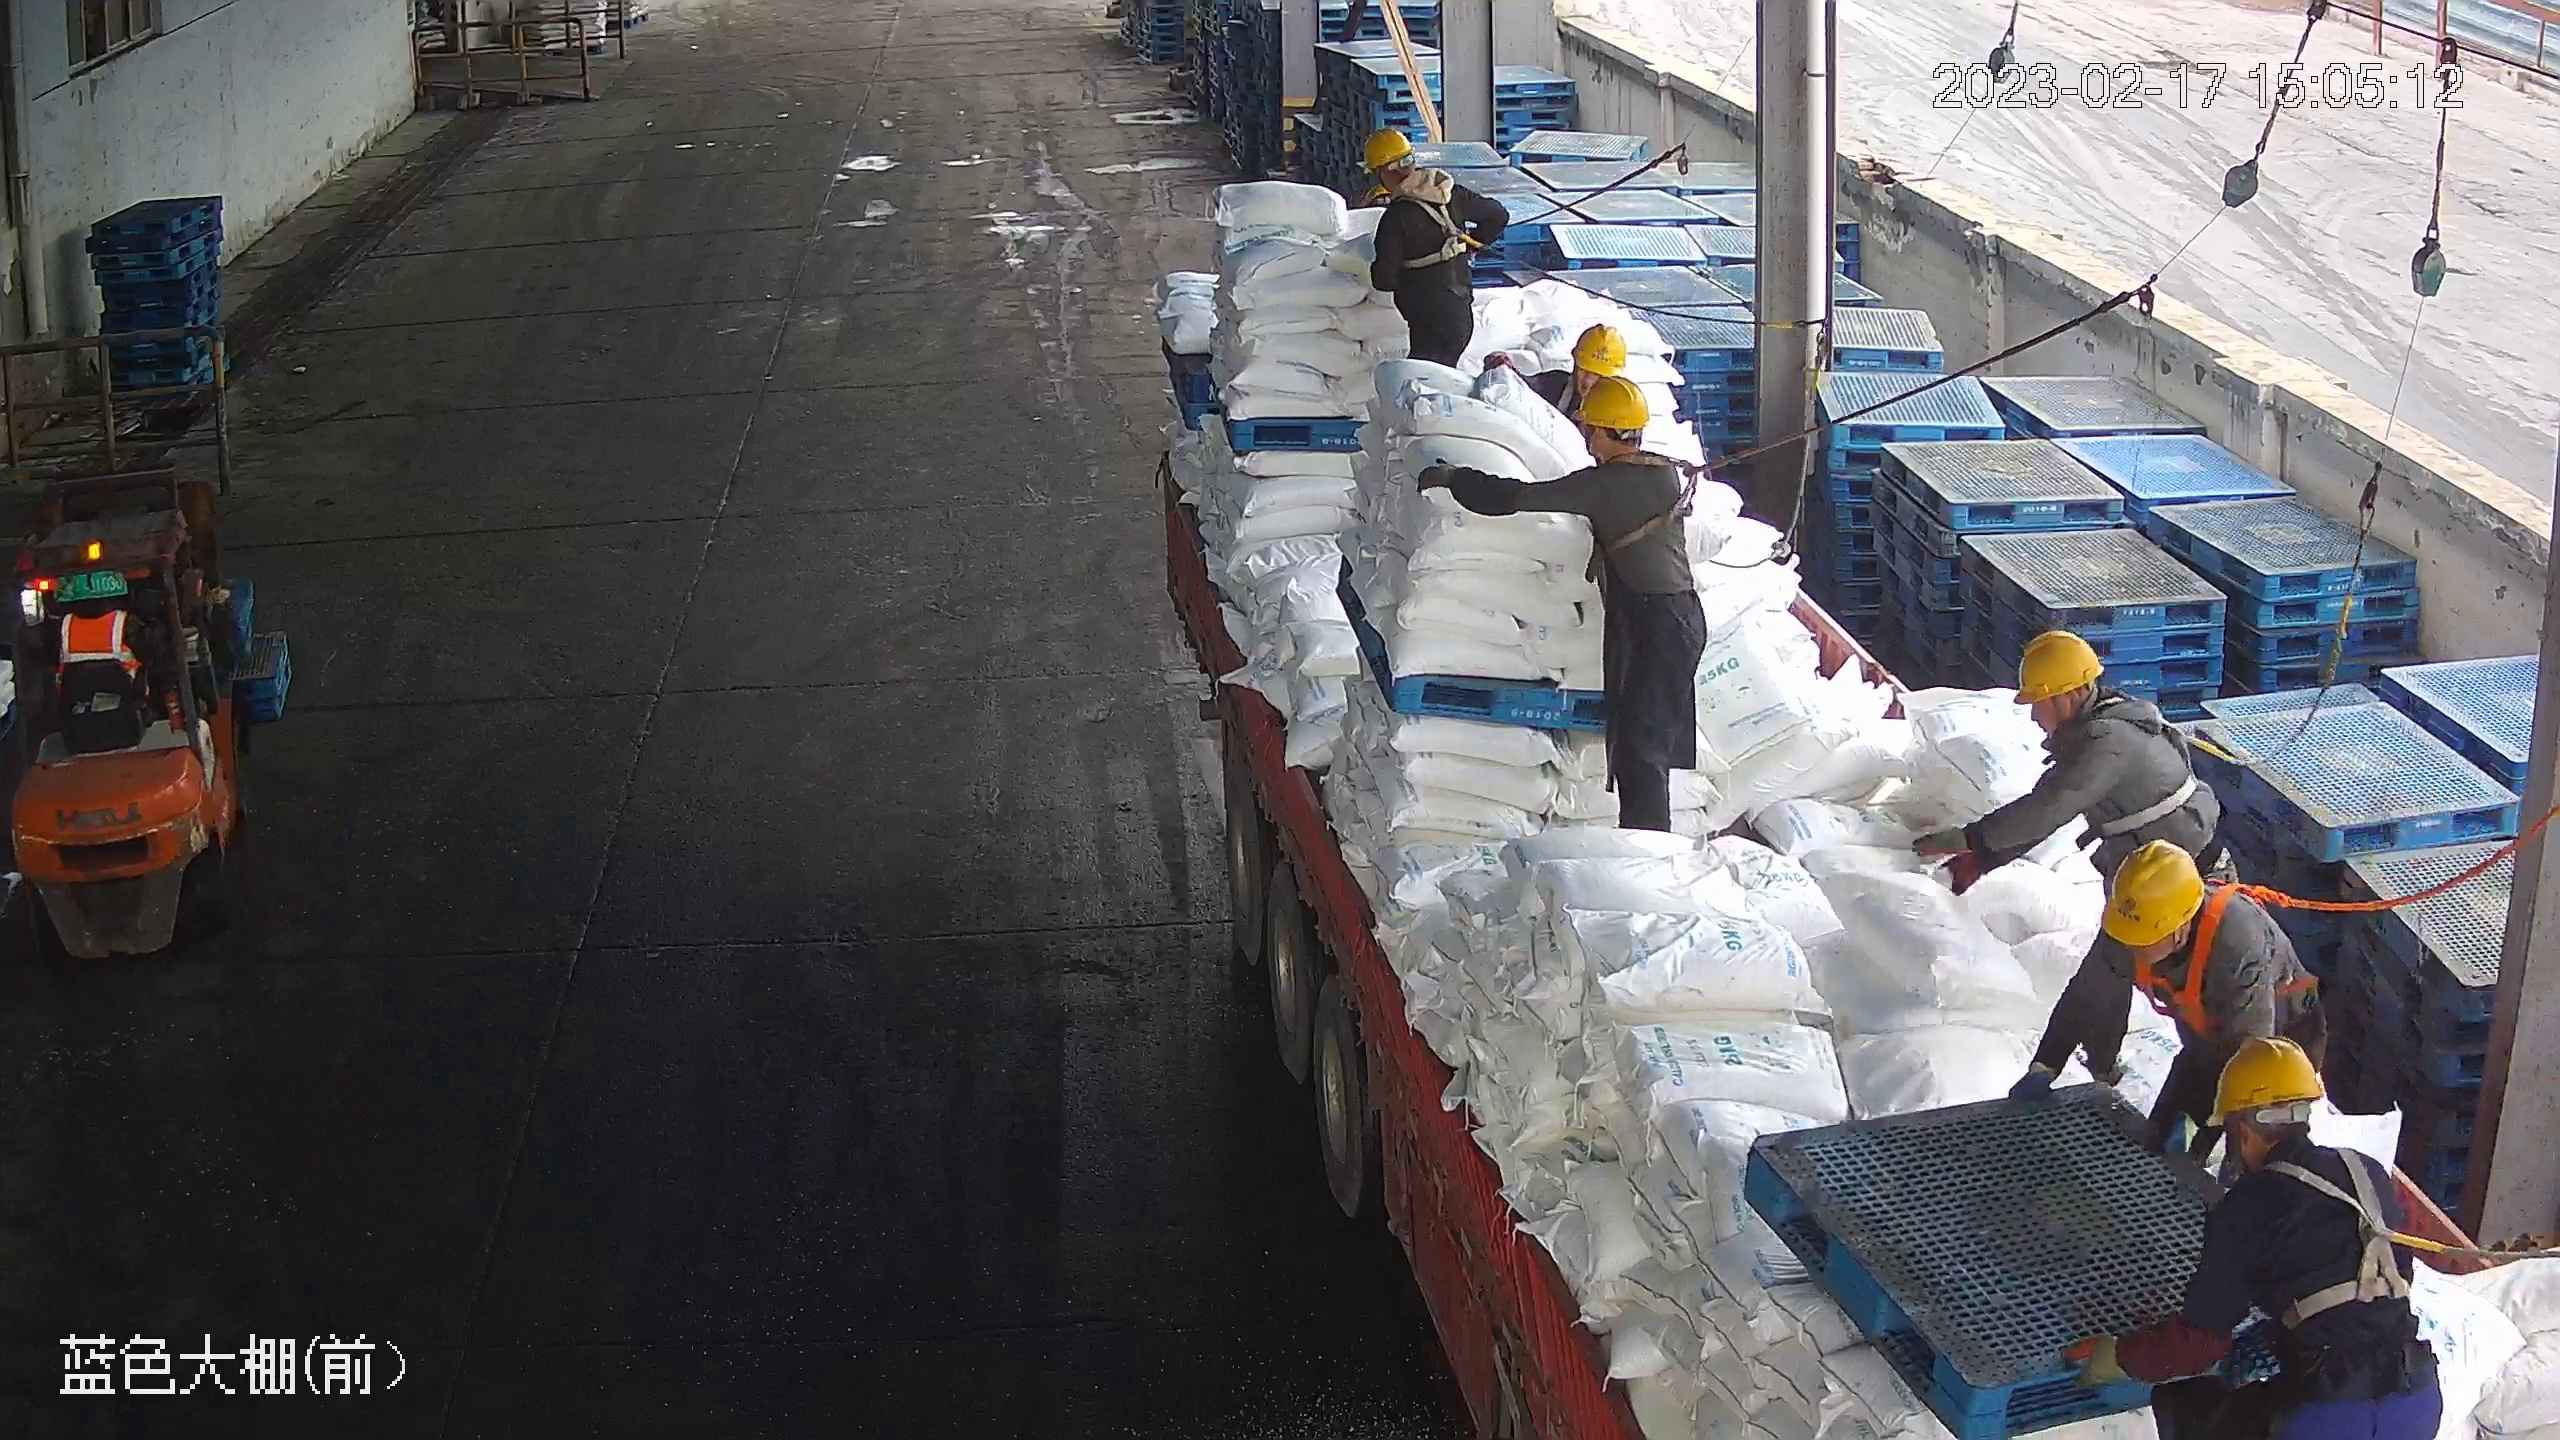belt: (2241, 1144, 2432, 1324), (2137, 875, 2310, 1044), (2079, 683, 2215, 832), (1593, 440, 1722, 556), (1390, 176, 1479, 272)
head: (2196, 1029, 2399, 1241), (2092, 836, 2299, 998), (2003, 626, 2182, 783), (1556, 375, 1692, 509), (1357, 127, 1486, 228)
helmet: (2102, 833, 2204, 947), (2204, 1033, 2327, 1125), (2011, 626, 2105, 701), (1568, 376, 1649, 431), (1565, 319, 1631, 373), (1358, 124, 1414, 174)
people: (2071, 1033, 2444, 1438), (1909, 611, 2204, 1099), (1421, 374, 1710, 838), (1356, 127, 1504, 369)
truck: (1147, 358, 2557, 1440)
